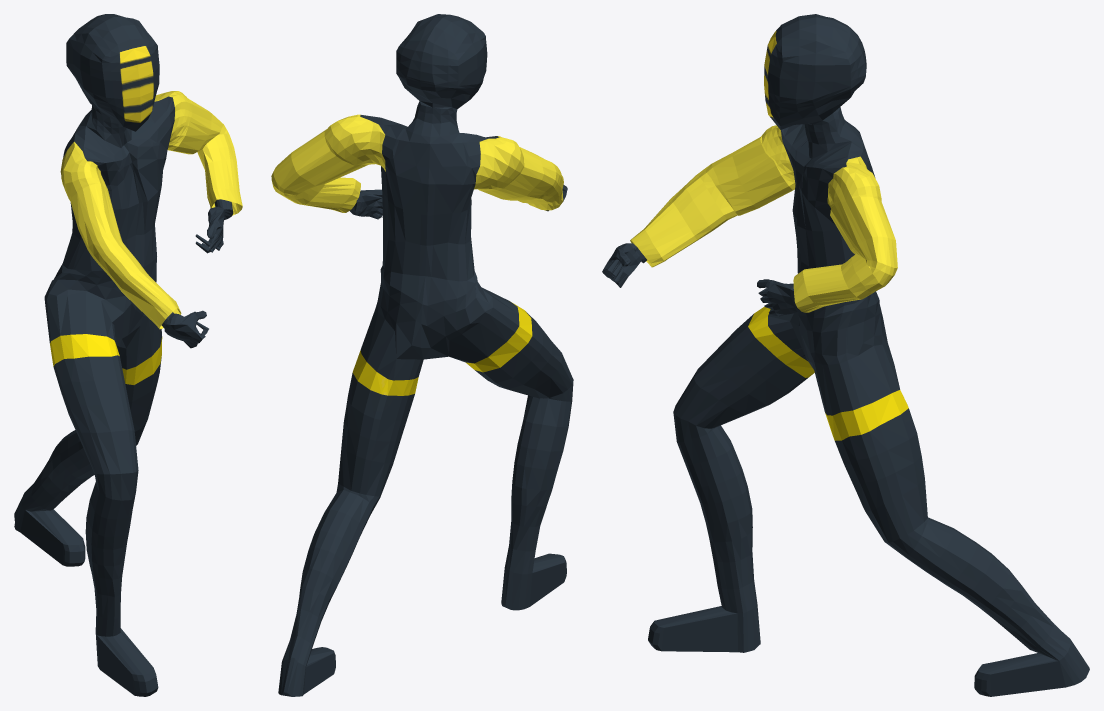
Rendered from Sentry_Hit_Stun_000003.obj.
3 views of the same model, side by side, from view 1: azimuth 30°, elevation 25°; view 2: azimuth 150°, elevation 25°; view 3: azimuth 270°, elevation 25° (orthographic). The views are drawn at different scales.
Parts seen in each view (by area): view 1: Cube; view 2: Cube; view 3: Cube.
Part boxes in pixels (bbox=[...]): Cube: bbox=[14, 14, 242, 696]; Cube: bbox=[271, 14, 573, 696]; Cube: bbox=[602, 14, 1089, 696].
Bounding box in the file's own units: 1.34 × 3.57 × 2.41.
